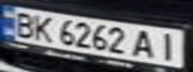2: (106, 24, 130, 56), (72, 19, 93, 49)
6: (54, 17, 78, 47), (90, 21, 112, 52)
A: (130, 27, 160, 60)
B: (6, 10, 39, 38)
I: (151, 29, 184, 61)
K: (30, 12, 57, 43)
